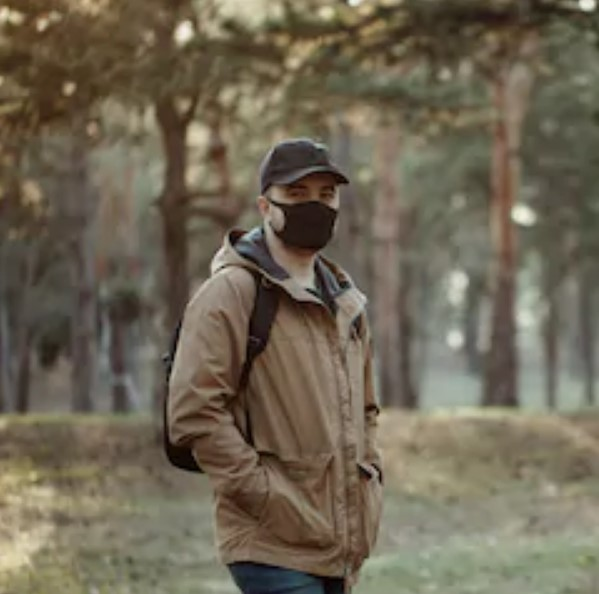face_with_mask: (259, 144, 347, 252)
